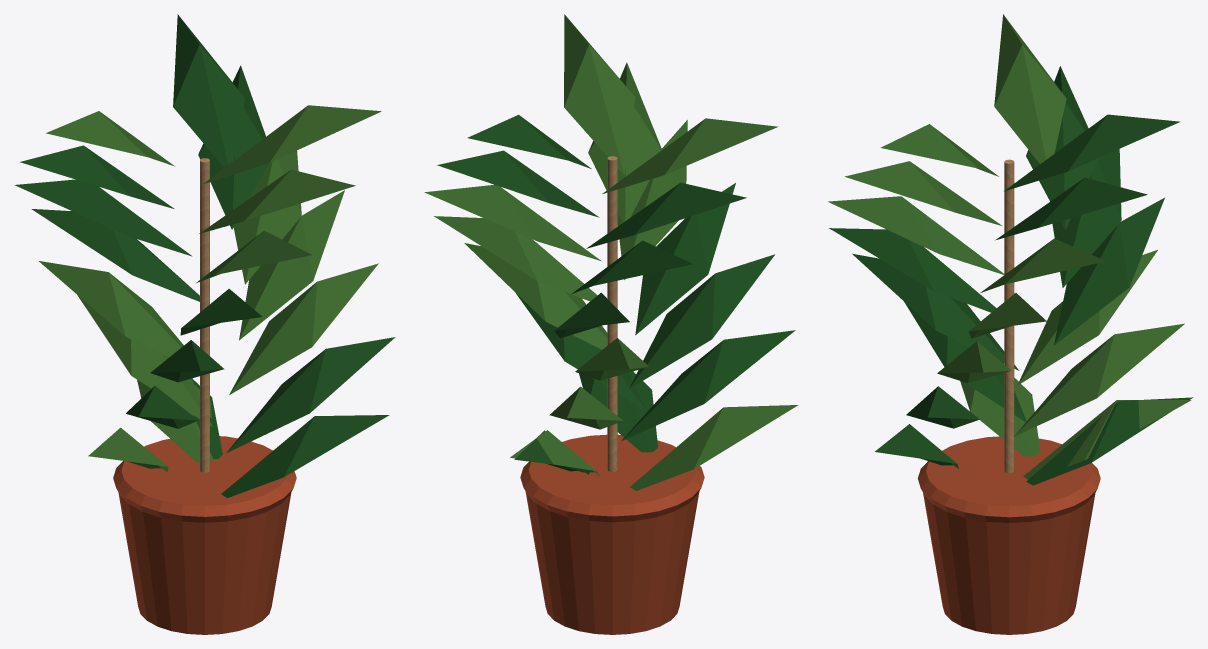
File: window_plant.dae
3 views of the same model, side by side, from view 1: azimuth 30°, elevation 25°; view 2: azimuth 150°, elevation 25°; view 3: azimuth 270°, elevation 25° (orthographic).
Visible parts, largest first — view 1: leaf, leaf_light, terra, oak; view 2: leaf_light, leaf, terra, oak; view 3: leaf, leaf_light, terra, oak.
Part boxes in pixels (x1=…): leaf: x1=14, y1=14, x2=395, y2=497; leaf_light: x1=39, y1=105, x2=381, y2=471; terra: x1=113, y1=436, x2=296, y2=634; oak: x1=200, y1=158, x2=209, y2=472; leaf_light: x1=424, y1=14, x2=798, y2=490; leaf: x1=437, y1=114, x2=795, y2=474; terra: x1=520, y1=434, x2=704, y2=634; oak: x1=607, y1=156, x2=617, y2=471; leaf: x1=829, y1=66, x2=1193, y2=485; leaf_light: x1=828, y1=14, x2=1191, y2=479; terra: x1=917, y1=436, x2=1100, y2=634; oak: x1=1004, y1=159, x2=1014, y2=473.
Size of the model in its own units: 0.8952 by 0.8804 by 1.36.
Materials: 4 (1 with a texture image).
